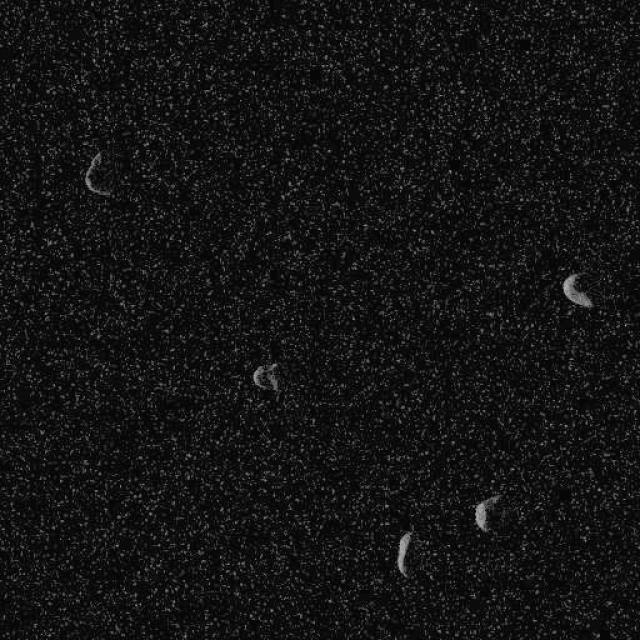D2: (82, 148, 114, 198), (560, 271, 594, 309), (472, 492, 502, 534), (251, 362, 281, 392), (395, 530, 413, 578)
